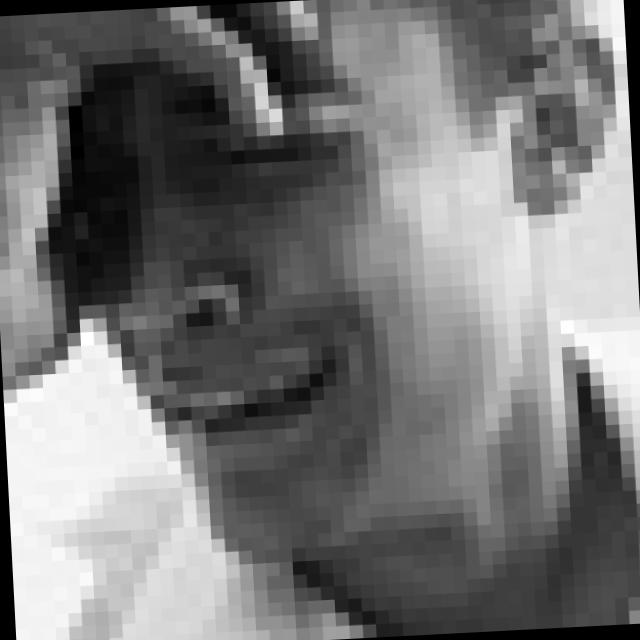sad: (68, 68, 411, 461)
